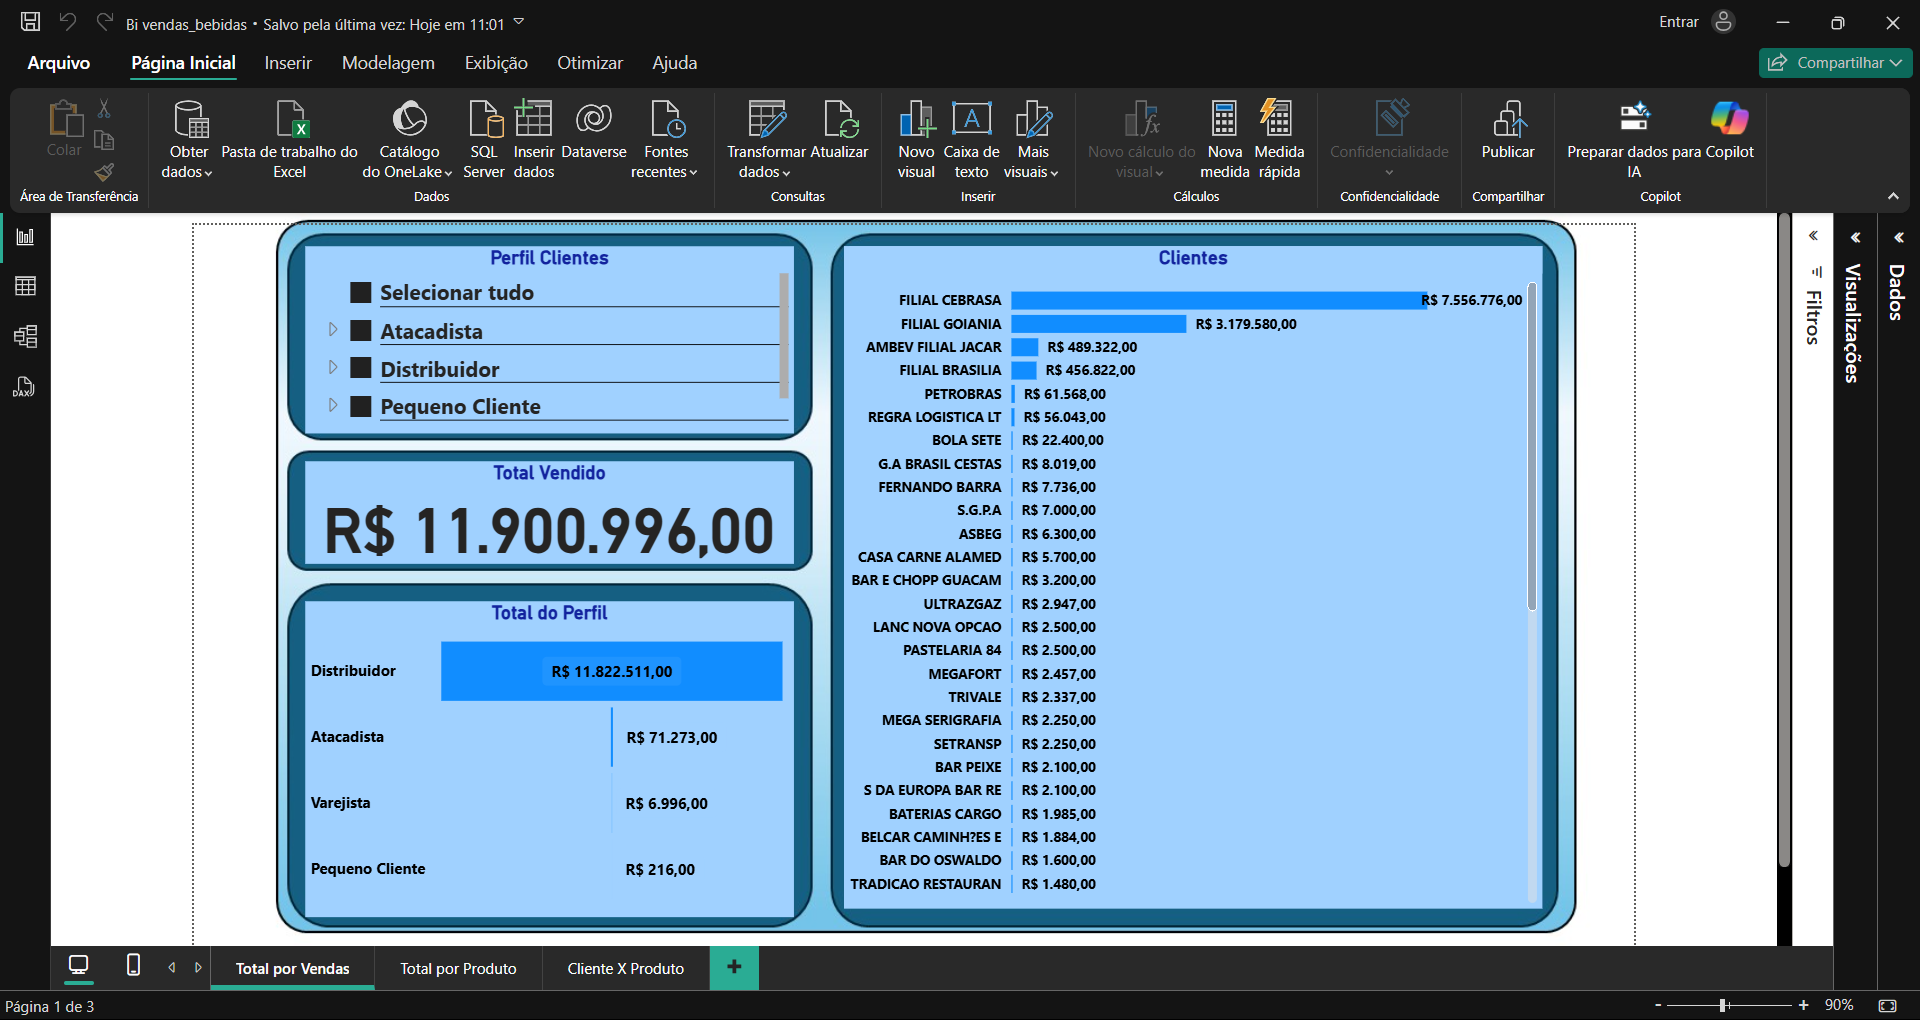

Layout of this report page (visuals, bound fields, positions):
{"tool":"powerbi","page":{"name":"Total por Vendas","canvas":[1280,720],"ordinal":0},"visuals":[{"type":"slicer","title":"Perfil Clientes","fields":{"Values":["vendas_bebidas bebidas.Class_Cliente","vendas_bebidas bebidas.total"]},"box":[98.9,18.9,434.4,166.7],"z":0},{"type":"clusteredBarChart","title":"Clientes","fields":{"Category":["vendas_bebidas bebidas.Cliente"],"Y":["vendas_bebidas bebidas.total"]},"box":[577.8,18.9,621.1,588.9],"z":1000},{"type":"card","title":"Total Vendido","fields":{"Values":["vendas_bebidas bebidas.total"]},"box":[98.9,210,434.4,91.1],"z":2000},{"type":"funnel","title":"Total do Perfil","fields":{"Category":["vendas_bebidas bebidas.Class_Cliente"],"Y":["vendas_bebidas bebidas.total"]},"box":[98.9,334.4,434.4,281.1],"z":3000}]}

Visuals, with their boxes on the page's 1280x720 design canvas (x1, y1, x2, y2). These are canvas units, not pixel positions in the 1920x1020 screenshot, which may show the page scaled, cropped or inside an application window:
"Perfil Clientes" slicer: x1=99, y1=19, x2=533, y2=186
"Clientes" clusteredBarChart: x1=578, y1=19, x2=1199, y2=608
"Total Vendido" card: x1=99, y1=210, x2=533, y2=301
"Total do Perfil" funnel: x1=99, y1=334, x2=533, y2=616
